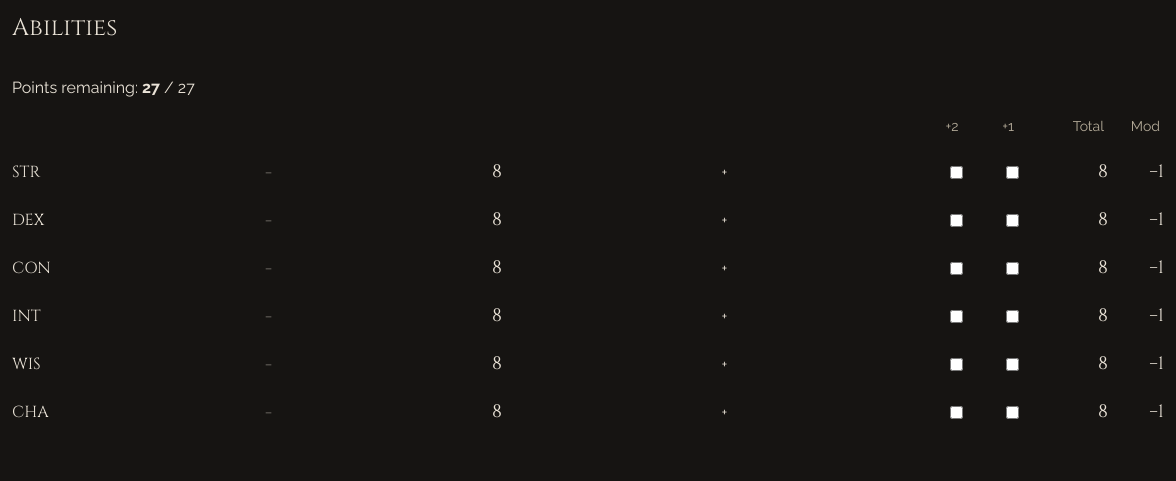
Test case: clicking a checked +2 checkbox unchecks it
Click the checkbox named "+2 bonus to STR" at coordinates (956, 172), box [950,166,962,178]
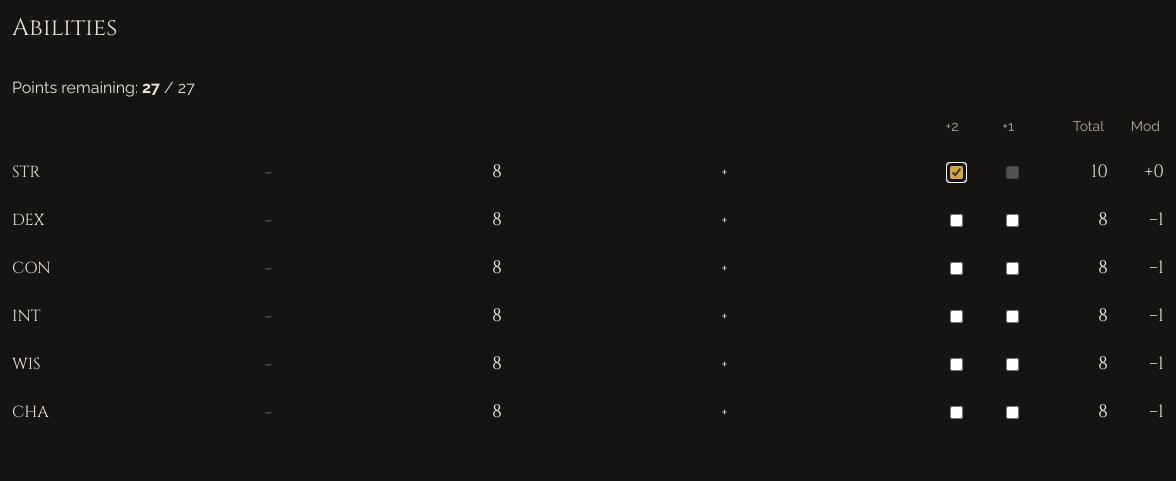
Now the checkbox named "+2 bonus to STR" is checked
Click the checkbox named "+2 bonus to STR" at coordinates (956, 172), box [950,166,962,178]
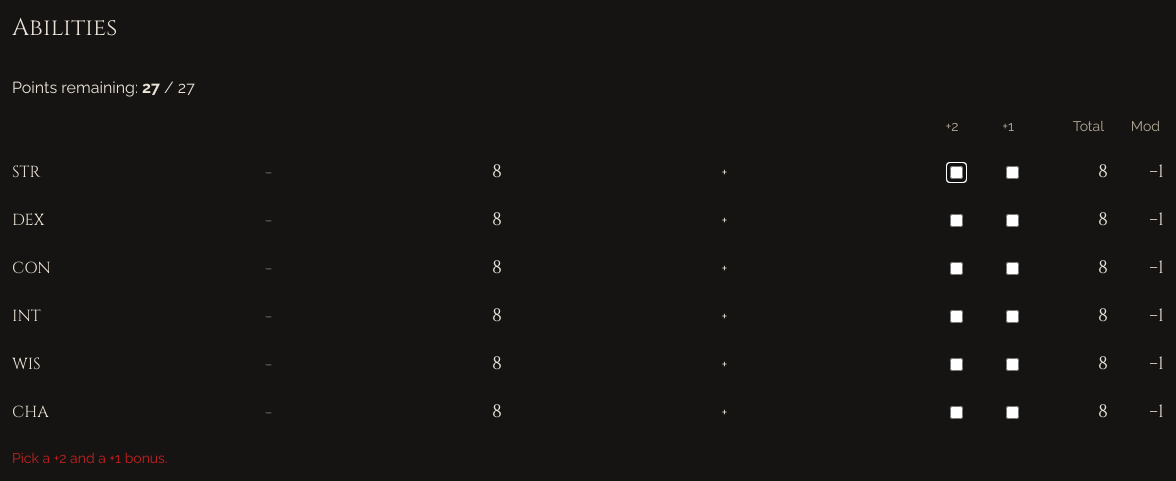
Now the checkbox named "+2 bonus to STR" is not checked, box [950,166,962,178]
Now the checkbox named "+1 bonus to STR" is enabled, box [1006,166,1018,178]
